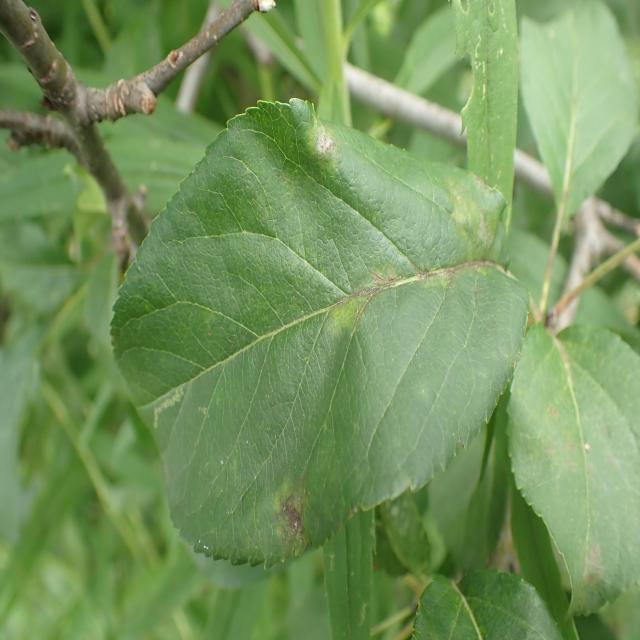scab: (182, 95, 532, 577), (534, 333, 640, 617)
